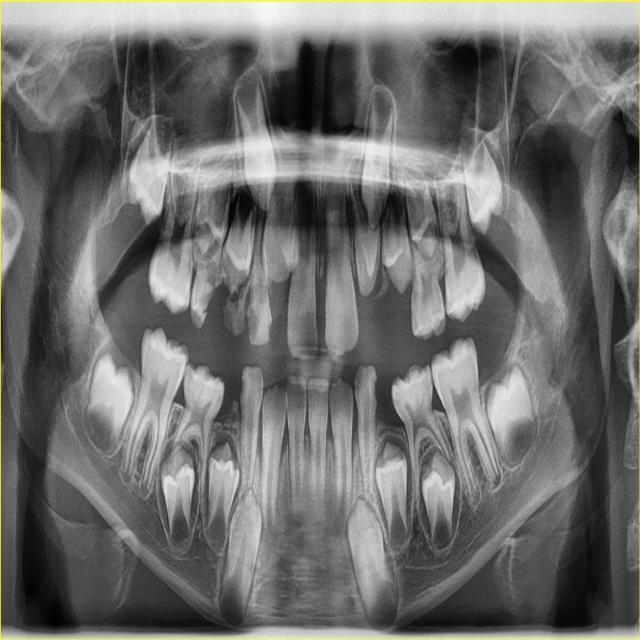Sterngold Implant: (193, 270, 225, 320), (219, 295, 247, 336), (243, 305, 262, 341), (241, 372, 248, 404), (391, 392, 401, 413), (265, 317, 272, 341), (372, 374, 377, 407), (426, 376, 434, 390)
